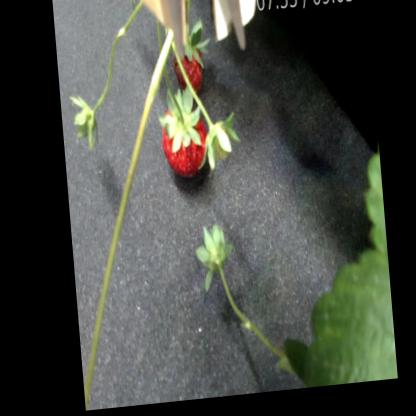ripe: (156, 106, 208, 186), (193, 224, 224, 311), (172, 52, 208, 99)
